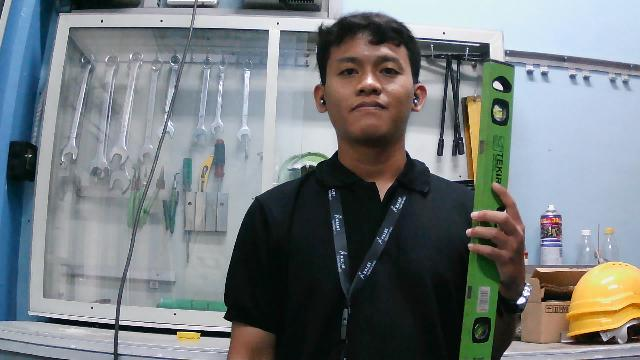water_pass: (455, 51, 525, 360)
